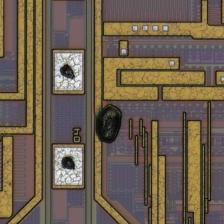PIQ PARTICLE: (60, 64, 124, 174)
